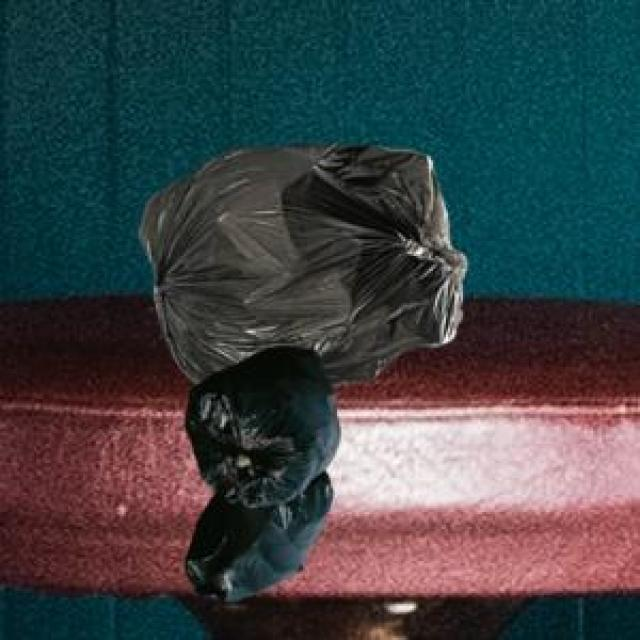waste: (140, 146, 466, 601)
